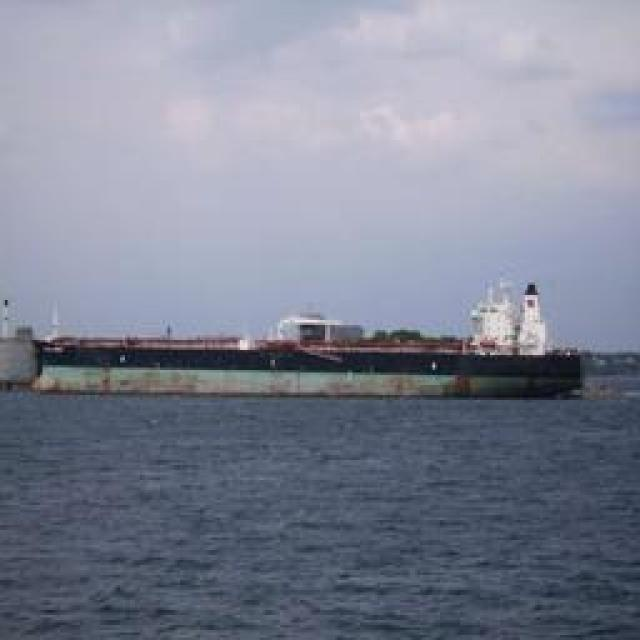CIV_Ship: (26, 302, 589, 396)
